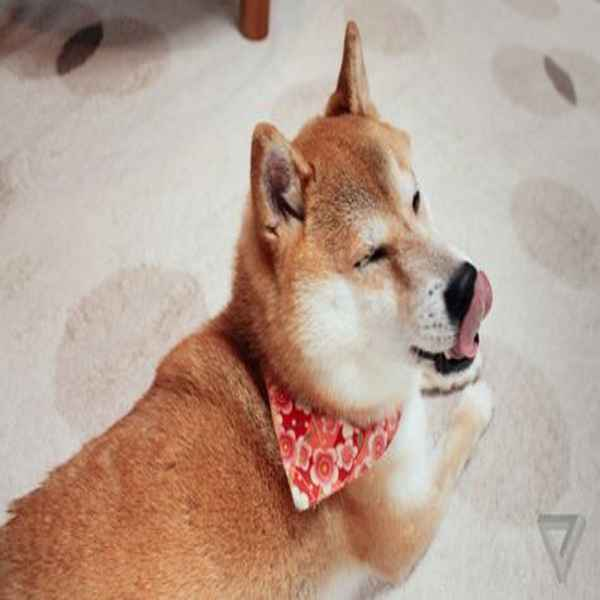doge: (216, 11, 502, 456)
